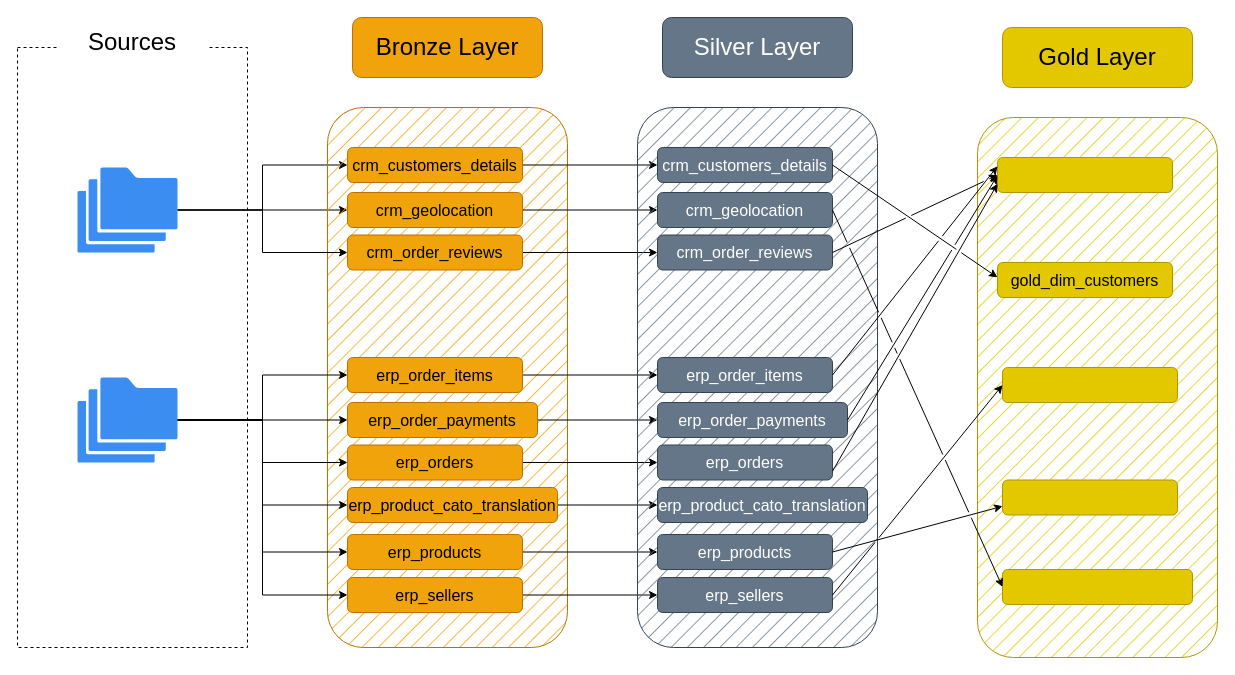
Some shapes in this 1235 by 675 pixel diagram are drawn without their labels. Here are the shapes that lost their labels. From the top down, the box of each, then its label:
(996, 156, 1172, 192): gold_facts_orders
(77, 167, 177, 252): CRM
(1002, 366, 1178, 402): gold_dim_sellers
(77, 377, 177, 462): ERP
(1002, 479, 1178, 515): gold_dim_products
(1002, 568, 1192, 604): gold_dim_geolocation
